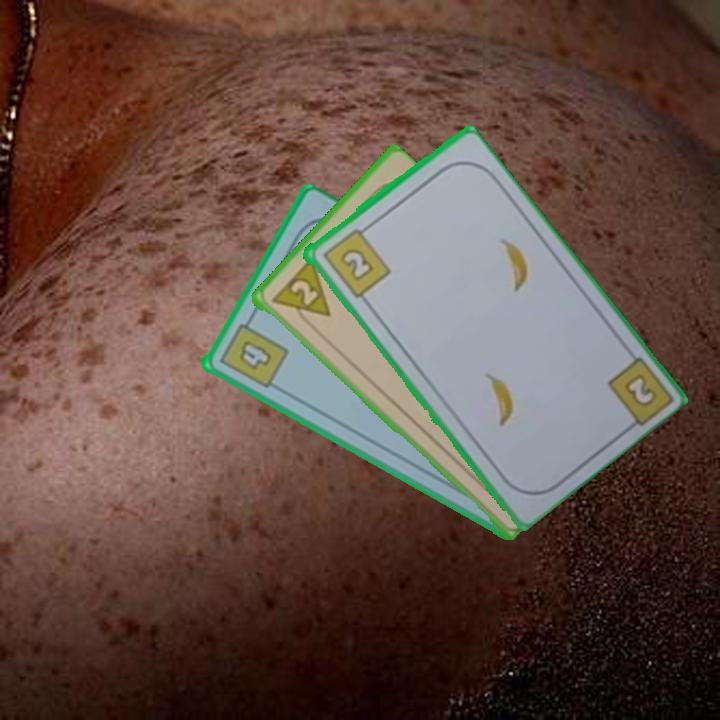2b: (318, 222, 393, 301), (620, 369, 660, 410)
2p: (267, 256, 333, 332)
4b: (214, 312, 290, 392)
